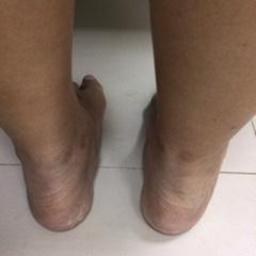Back View -Both Feet-: (6, 54, 248, 238)
